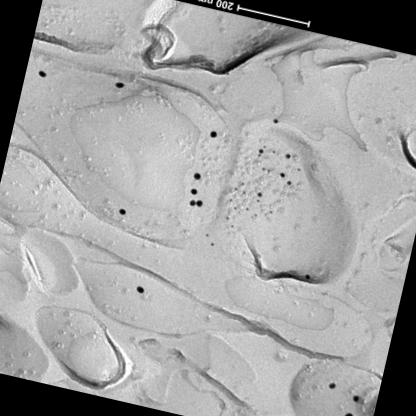6 nm Particle: (260, 142, 268, 151), (252, 212, 260, 220), (238, 180, 246, 188), (258, 166, 266, 174), (270, 149, 278, 157), (227, 197, 235, 204), (232, 186, 240, 193), (295, 167, 303, 174), (256, 152, 263, 160), (232, 205, 239, 212), (267, 209, 274, 216), (229, 223, 236, 230), (266, 168, 272, 176), (240, 191, 248, 196), (255, 198, 261, 204), (224, 216, 231, 221), (243, 207, 250, 212)
